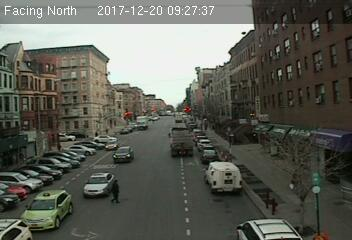car: (20, 186, 72, 232), (83, 171, 114, 197), (114, 147, 134, 163), (202, 149, 219, 163), (105, 141, 118, 149)
pedestrian: (110, 177, 121, 202)
truck: (206, 163, 243, 194), (168, 127, 193, 157)
